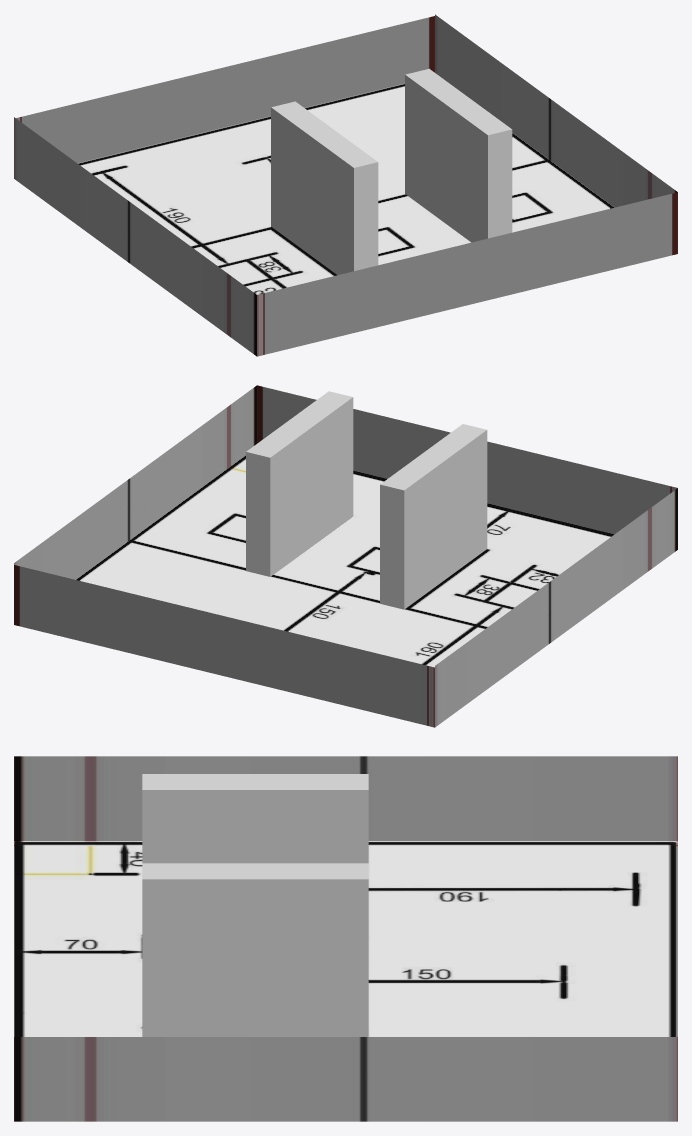
Rendered from shoot1.dae.
The picture shows the model from 3 angles, top to bottom: view 1: azimuth 30°, elevation 25°; view 2: azimuth 150°, elevation 25°; view 3: azimuth 270°, elevation 25°; orthographic projection. The views are drawn at different scales.
Visible parts, largest first — view 1: 平面, 立方体.001, 立方体; view 2: 平面, 立方体.001, 立方体; view 3: 平面, 立方体.001, 立方体.
Part boxes in pixels (x1,y1,x2,y2): 平面: [14, 14, 677, 356]; 立方体.001: [405, 68, 512, 242]; 立方体: [271, 101, 378, 274]; 平面: [14, 385, 677, 727]; 立方体.001: [246, 391, 353, 576]; 立方体: [380, 424, 487, 609]; 平面: [14, 756, 677, 1121]; 立方体.001: [142, 863, 368, 1036]; 立方体: [142, 774, 368, 863].
Bounding box in the file's own units: 7.2 × 7.2 × 2.
Materials: 1 (1 with a texture image).
